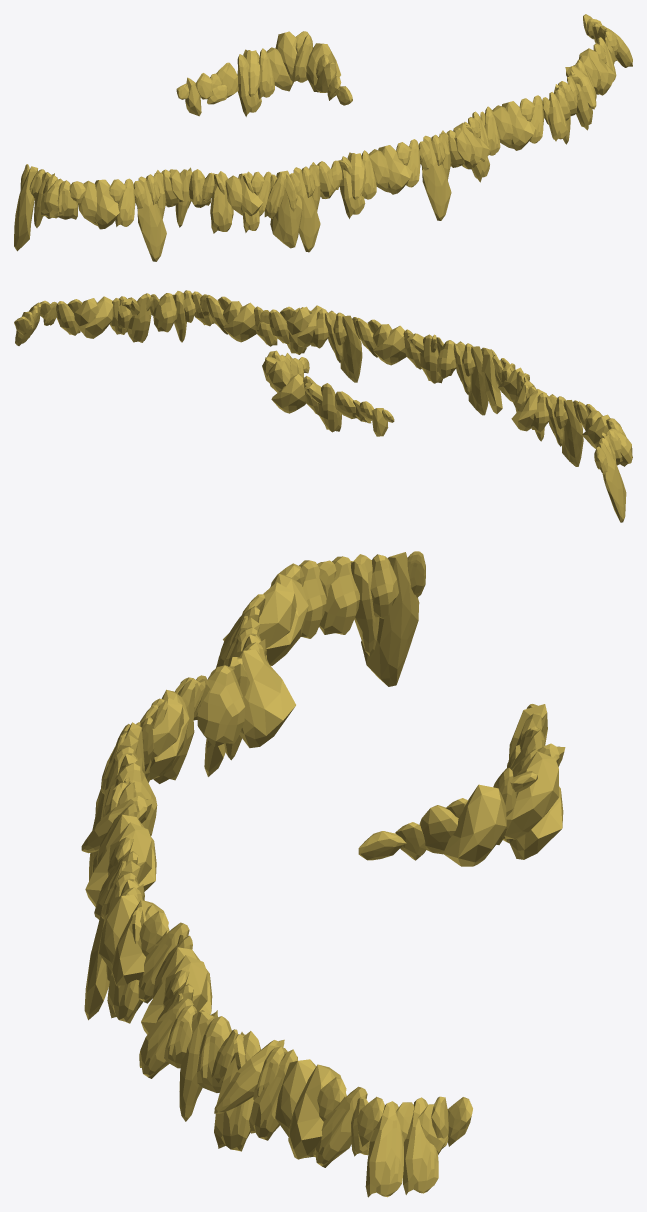
Rendered from SOS_cliff_rocks_02.fbx.
The picture shows the model from 3 angles, top to bottom: view 1: azimuth 30°, elevation 25°; view 2: azimuth 150°, elevation 25°; view 3: azimuth 270°, elevation 25°; orthographic projection. The views are drawn at different scales.
Parts seen in each view (by area): view 1: rock A.001; view 2: rock A.001; view 3: rock A.001.
Boxes of the visible parts, x1,y1,x2,y2 form: rock A.001: (14, 14, 632, 261); rock A.001: (14, 290, 632, 522); rock A.001: (81, 551, 565, 1197).
Bounding box in the file's own units: 8604 × 1563 × 2978.
